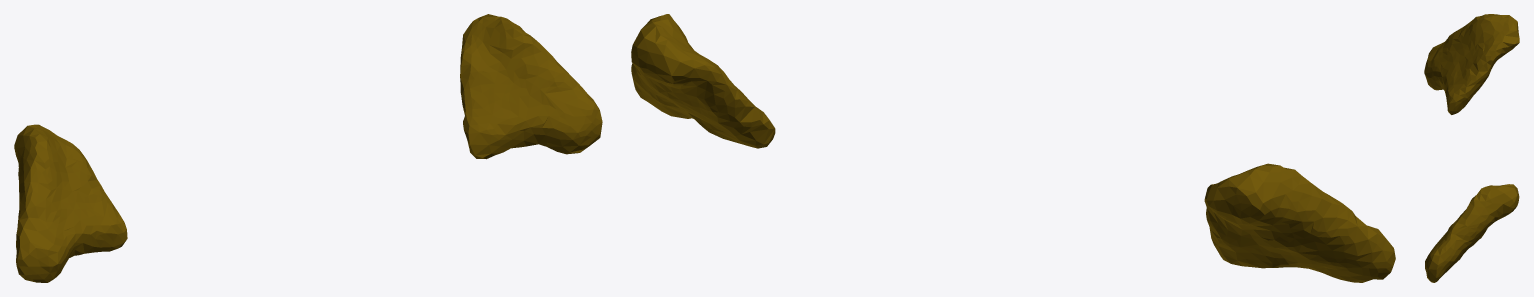
File: 124-PGOp-parietal area PG, opercular part-('0.4980', '0.3804', '0.0000').obj
3 views of the same model, side by side, from view 1: azimuth 30°, elevation 25°; view 2: azimuth 150°, elevation 25°; view 3: azimuth 270°, elevation 25° (orthographic). The views are drawn at different scales.
Bounding box in the file's own units: 320 × 58.98 × 60.09.
